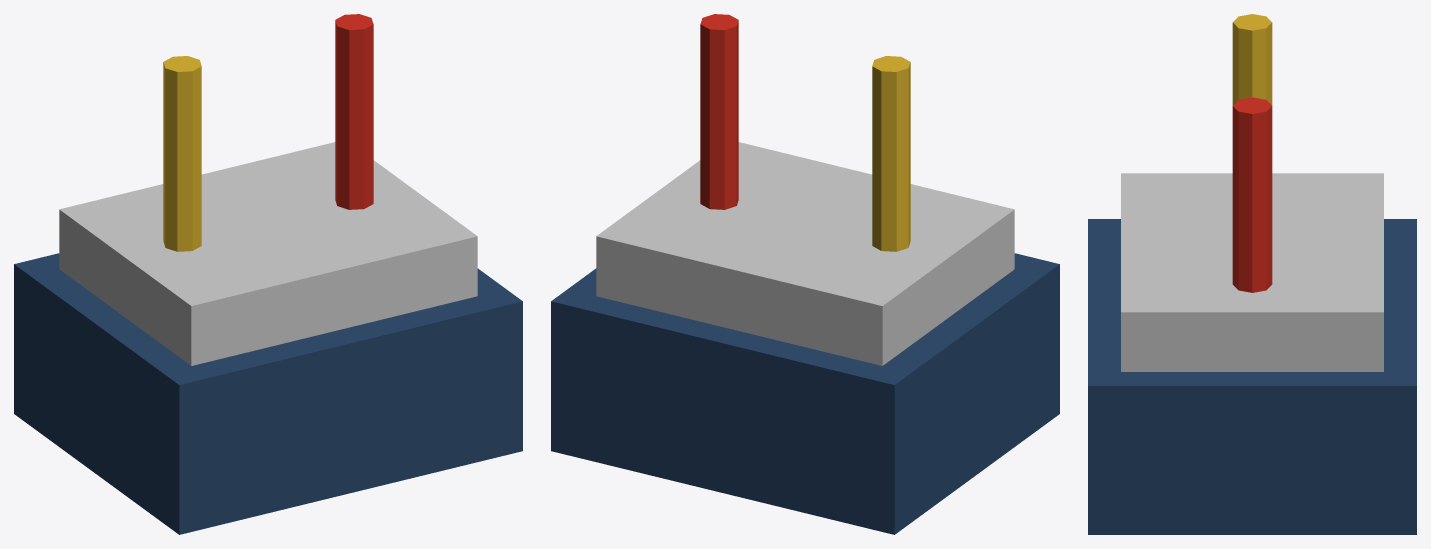
The model's file is anti_jam_module.obj.
The picture shows the model from 3 angles, left to right: view 1: azimuth 30°, elevation 25°; view 2: azimuth 150°, elevation 25°; view 3: azimuth 270°, elevation 25°; orthographic projection.
Visible parts, largest first — view 1: anti_jam_module; view 2: anti_jam_module; view 3: anti_jam_module.
Part boxes in pixels (x1=…): anti_jam_module: x1=14, y1=14, x2=522, y2=534; anti_jam_module: x1=551, y1=14, x2=1059, y2=534; anti_jam_module: x1=1088, y1=14, x2=1416, y2=534.
Size of the model in its own units: 0.24 by 0.26 by 0.2.
